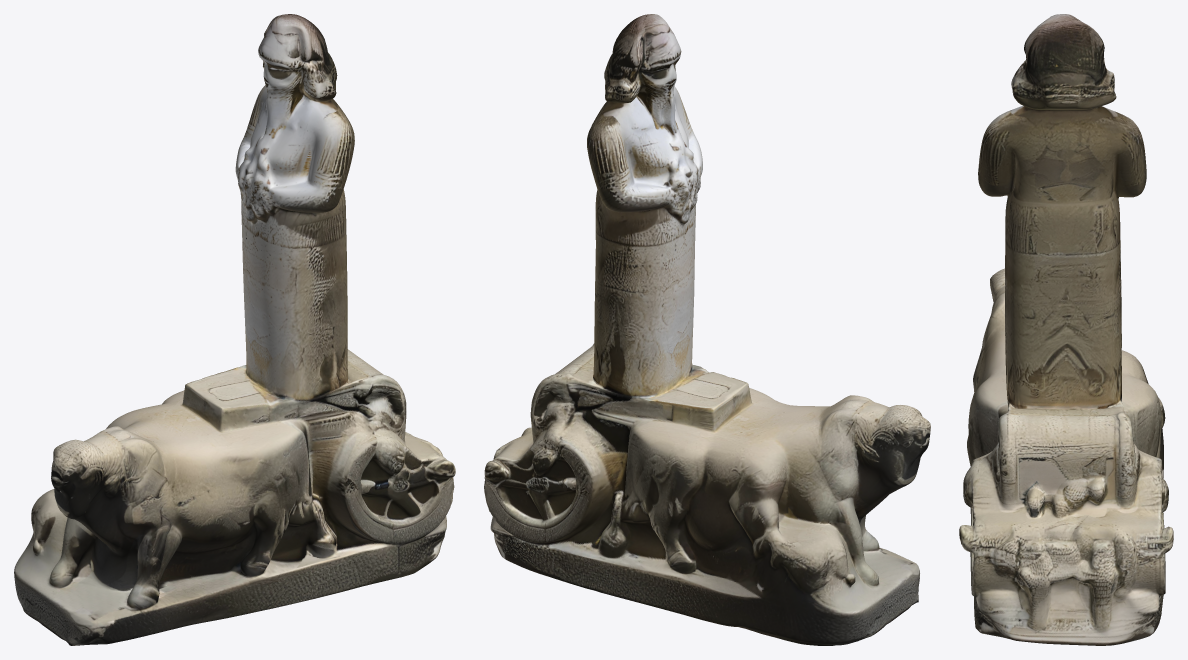
Rendered from Arabalı Tarhunda Heykeli.glb.
3 renders of one model, left to right at view 1: azimuth 30°, elevation 25°; view 2: azimuth 150°, elevation 25°; view 3: azimuth 270°, elevation 25°, orthographic. The views are drawn at different scales.
Parts seen in each view (by area): view 1: geometry_0; view 2: geometry_0; view 3: geometry_0.
Boxes of the visible parts, x1,y1,x2,y2 form: geometry_0: (14,14,455,645); geometry_0: (484,14,930,645); geometry_0: (959,14,1173,645).
Size of the model in its own units: 1.42 by 1.9 by 0.6431.
Materials: 1 (1 with a texture image).
